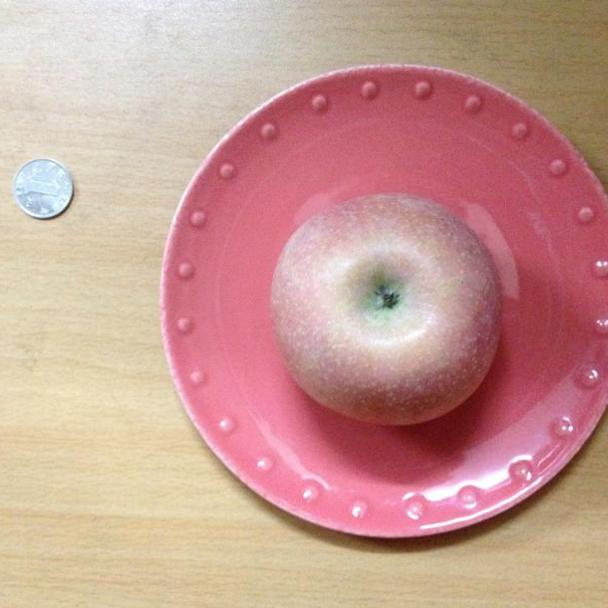apple: (271, 192, 504, 429)
